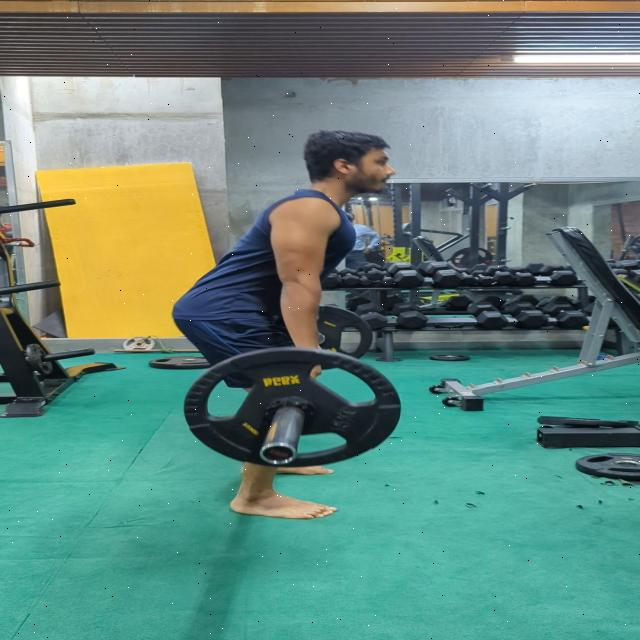Normal_Deadlifts: (165, 132, 399, 521)
